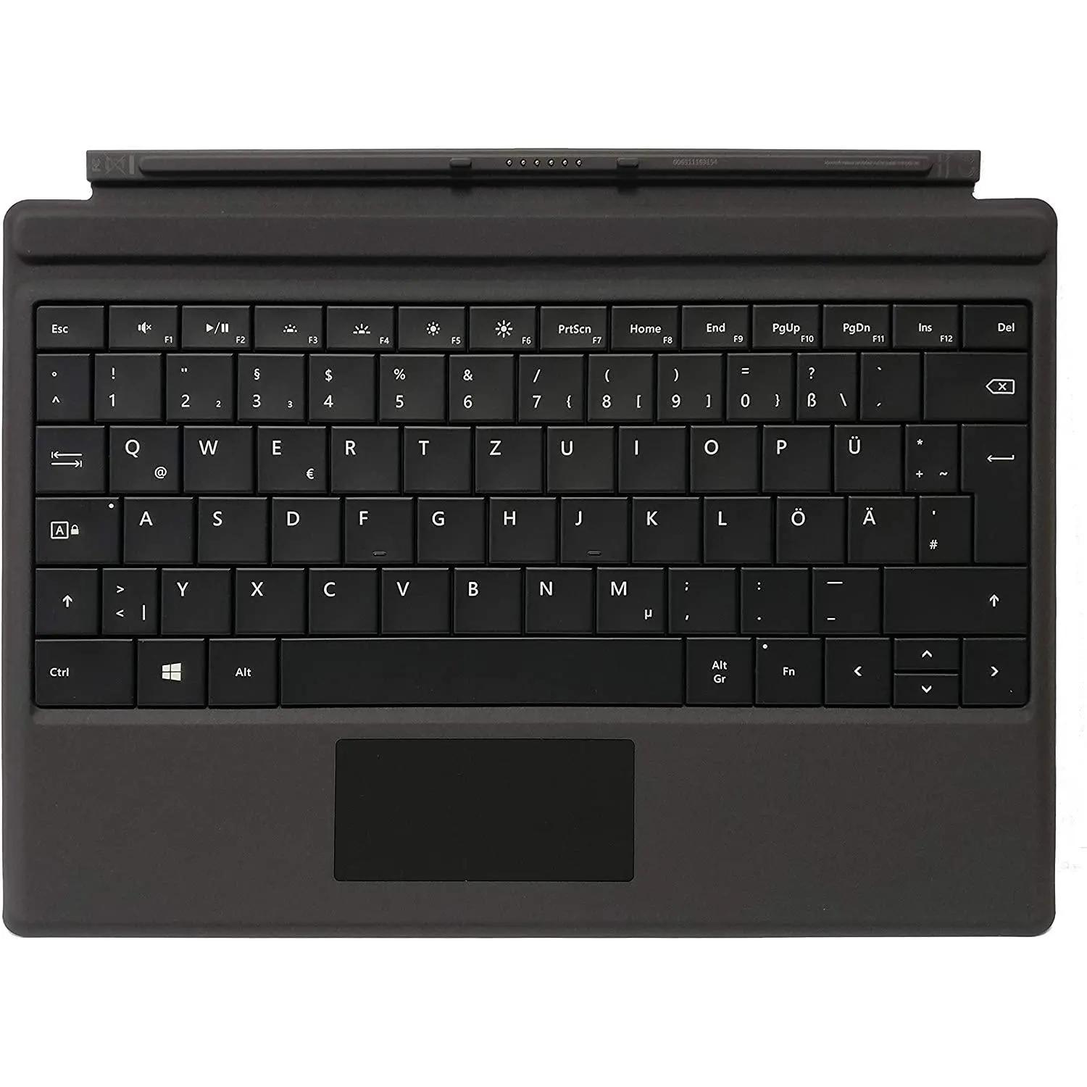0: (723, 348, 791, 421)
1: (90, 348, 159, 419)
2: (162, 348, 231, 420)
3: (232, 348, 303, 420)
4: (306, 349, 372, 419)
5: (375, 349, 443, 420)
6: (444, 349, 512, 420)
7: (515, 349, 582, 420)
8: (584, 349, 651, 420)
9: (653, 349, 720, 420)
a: (120, 492, 191, 561)
accent: (858, 346, 918, 418)
ae: (844, 491, 914, 562)
alt-left: (205, 633, 275, 704)
altgr-right: (681, 633, 751, 703)
b: (449, 562, 520, 632)
c: (304, 562, 376, 632)
caret: (33, 349, 86, 420)
comma: (665, 562, 734, 631)
d: (267, 491, 338, 561)
del: (923, 346, 1028, 420)
e: (252, 420, 325, 491)
enter: (959, 420, 1028, 565)
f: (341, 492, 411, 562)
g: (413, 492, 483, 561)
h: (485, 492, 554, 561)
hash: (915, 491, 968, 562)
i: (615, 420, 683, 489)
j: (557, 491, 625, 562)
k: (628, 492, 697, 561)
keyboard: (21, 286, 1041, 722)
l: (700, 491, 769, 561)
less: (99, 562, 157, 634)
m: (591, 562, 662, 633)
minus: (807, 563, 878, 630)
n: (520, 562, 590, 632)
o: (684, 420, 756, 490)
oe: (771, 491, 842, 562)
p: (757, 420, 829, 489)
plus: (902, 419, 957, 491)
point: (737, 563, 807, 630)
q: (104, 420, 178, 492)
r: (326, 421, 397, 491)
s: (193, 493, 265, 562)
shift-left: (31, 564, 96, 634)
shift-lock: (30, 493, 119, 563)
shift-right: (880, 562, 1028, 633)
space: (275, 633, 684, 705)
ss: (793, 347, 854, 420)
strg-left: (26, 635, 134, 707)
t: (399, 421, 469, 490)
tab: (31, 420, 104, 491)
u: (541, 420, 612, 491)
ue: (829, 420, 899, 491)
v: (378, 563, 447, 631)
w: (178, 420, 249, 491)
x: (231, 563, 304, 632)
y: (157, 563, 229, 633)
z: (470, 420, 541, 491)
